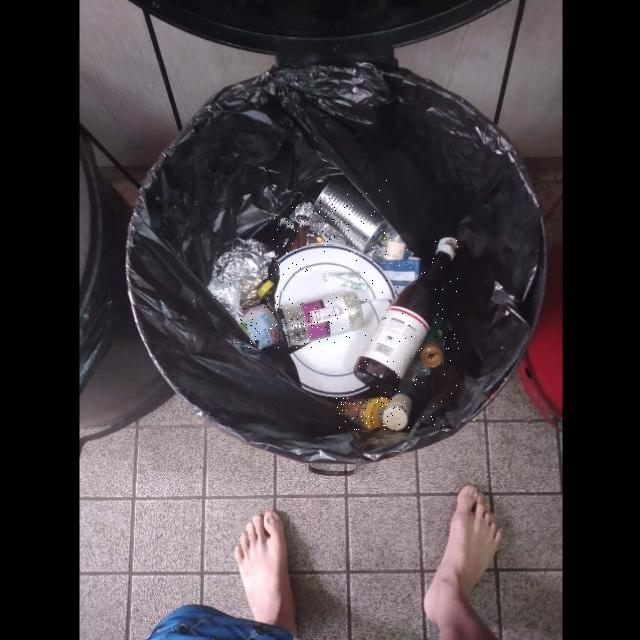glass: (354, 237, 459, 396), (383, 349, 444, 431), (278, 292, 364, 348), (268, 216, 309, 275), (337, 397, 390, 430)
metal: (313, 176, 389, 253), (208, 238, 277, 321), (280, 203, 352, 245), (238, 304, 281, 350)
